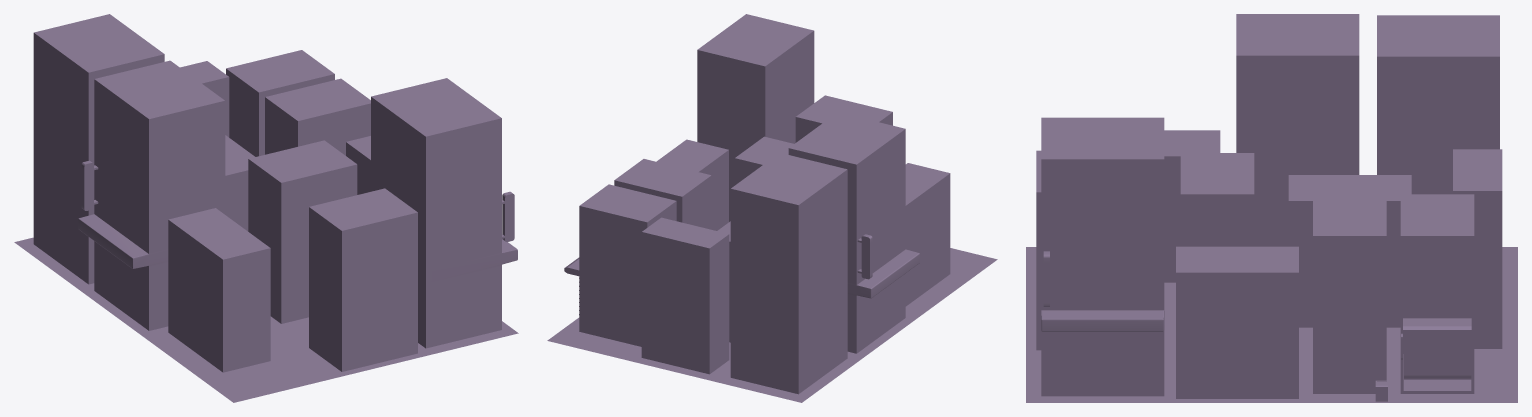
The model's file is slums_2mod.fbx.
The picture shows the model from 3 angles, left to right: view 1: azimuth 30°, elevation 25°; view 2: azimuth 150°, elevation 25°; view 3: azimuth 270°, elevation 25°; orthographic projection. The views are drawn at different scales.
Visible parts, largest first — view 1: slums_2mod_square_building6; view 2: slums_2mod_square_building6; view 3: slums_2mod_square_building6.
Part boxes in pixels (x1,y1,x2,y2): slums_2mod_square_building6: (14, 14, 518, 402); slums_2mod_square_building6: (547, 14, 997, 402); slums_2mod_square_building6: (1026, 14, 1517, 402).
Size of the model in its own units: 31.4 by 21.39 by 40.
